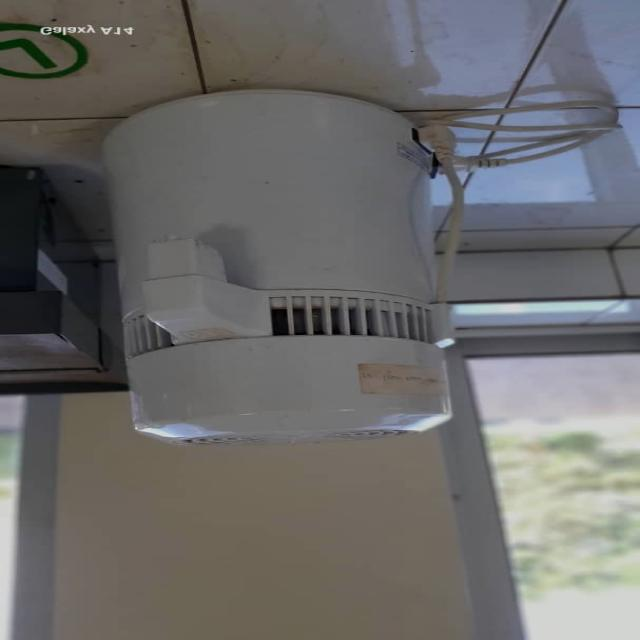Distilled Water Maker: (100, 86, 481, 453)
